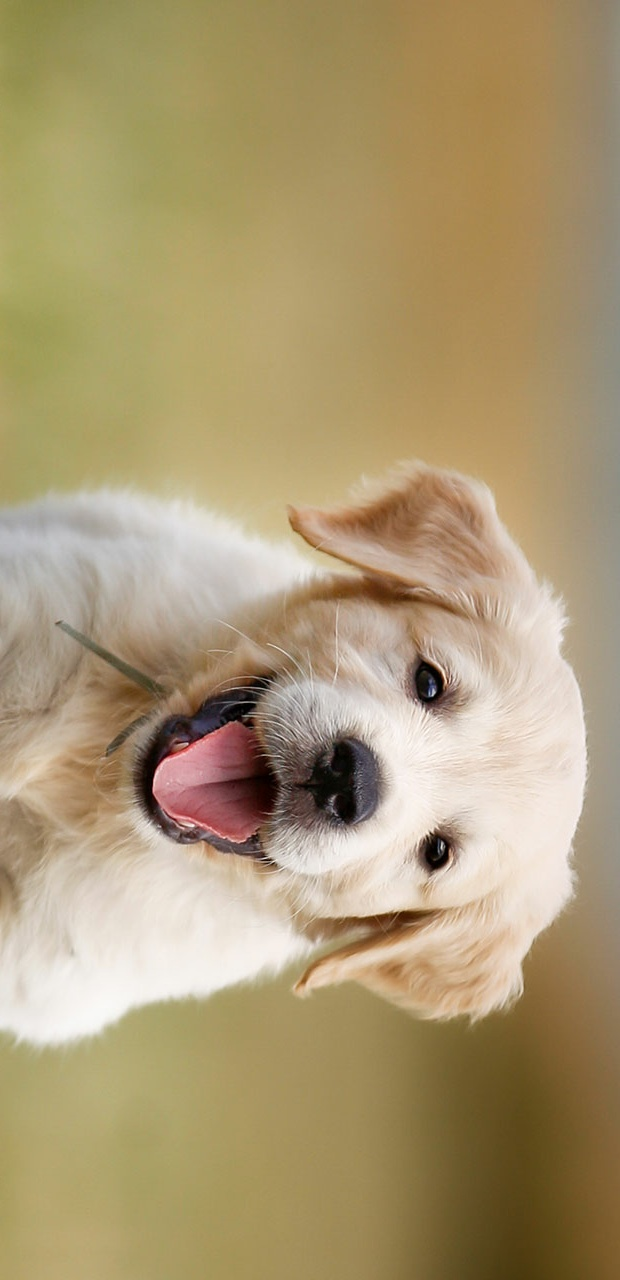dog: (122, 468, 588, 1025)
